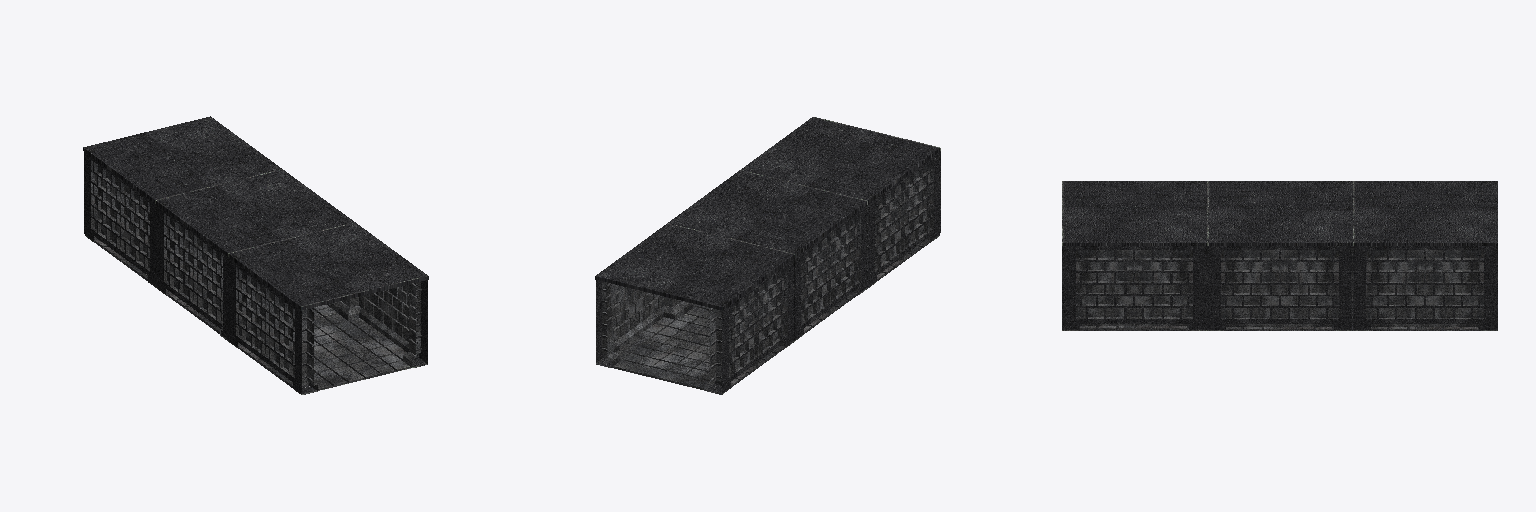
The picture shows the model from 3 angles: view 1: azimuth 30°, elevation 25°; view 2: azimuth 150°, elevation 25°; view 3: azimuth 270°, elevation 25°; orthographic projection.
Visible parts, largest first — view 1: Plane.105_Plane.231, Plane.104_Plane.230, Plane.103_Plane.229, Plane.043_Plane.199, Plane.038_Plane.198, Plane.080_Plane.206, Plane.083_Plane.209, Plane.047_Plane.201, Plane.076_Plane.202, Plane.085_Plane.211, Plane.044_Plane.200, Plane.037_Plane.197 (+3 smaller); view 2: Plane.103_Plane.229, Plane.104_Plane.230, Plane.105_Plane.231, Plane.079_Plane.205, Plane.047_Plane.201, Plane.076_Plane.202, Plane.083_Plane.209, Plane.085_Plane.211, Plane.038_Plane.198, Plane.080_Plane.206, Plane.081_Plane.207, Plane.077_Plane.203 (+3 smaller); view 3: Plane.104_Plane.230, Plane.105_Plane.231, Plane.103_Plane.229, Plane.081_Plane.207, Plane.084_Plane.210, Plane.044_Plane.200, Plane.037_Plane.197, Plane.082_Plane.208, Plane.077_Plane.203.
Boxes of the visible parts, box(x1,y1,x2,y2) form: Plane.105_Plane.231: box(229, 223, 428, 310); Plane.104_Plane.230: box(156, 170, 355, 256); Plane.103_Plane.229: box(83, 116, 282, 203); Plane.043_Plane.199: box(239, 314, 426, 394); Plane.038_Plane.198: box(229, 258, 269, 368); Plane.080_Plane.206: box(84, 152, 124, 259); Plane.083_Plane.209: box(157, 205, 197, 312); Plane.047_Plane.201: box(265, 284, 313, 394); Plane.076_Plane.202: box(121, 179, 156, 287); Plane.085_Plane.211: box(193, 232, 228, 340); Plane.044_Plane.200: box(387, 280, 427, 367); Plane.037_Plane.197: box(349, 289, 389, 336); Plane.103_Plane.229: box(595, 223, 794, 310); Plane.104_Plane.230: box(668, 170, 867, 256); Plane.105_Plane.231: box(741, 117, 940, 203); Plane.079_Plane.205: box(597, 314, 784, 394); Plane.047_Plane.201: box(899, 151, 940, 259); Plane.076_Plane.202: box(753, 259, 793, 365); Plane.083_Plane.209: box(794, 232, 830, 341); Plane.085_Plane.211: box(826, 205, 866, 314); Plane.038_Plane.198: box(867, 178, 903, 287); Plane.080_Plane.206: box(714, 285, 757, 394); Plane.081_Plane.207: box(596, 280, 636, 363); Plane.077_Plane.203: box(633, 290, 664, 336); Plane.104_Plane.230: box(1207, 181, 1352, 245); Plane.105_Plane.231: box(1062, 181, 1206, 245); Plane.103_Plane.229: box(1353, 181, 1497, 245); Plane.081_Plane.207: box(1425, 246, 1497, 330); Plane.084_Plane.210: box(1207, 246, 1279, 330); Plane.044_Plane.200: box(1062, 246, 1134, 330); Plane.037_Plane.197: box(1134, 246, 1206, 330); Plane.082_Plane.208: box(1280, 246, 1351, 330); Plane.077_Plane.203: box(1353, 246, 1424, 330).
Bounding box in the file's own units: 8.1 × 5.36 × 24.02.
5 materials, 2 textured.